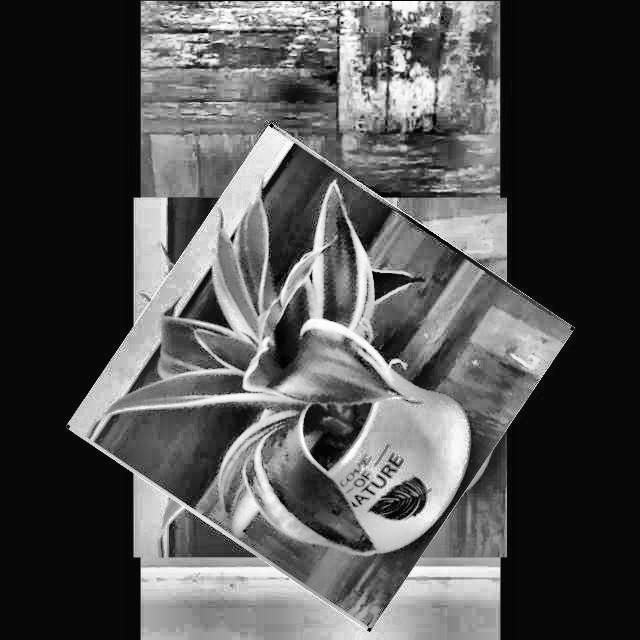plants: (101, 158, 539, 596)
